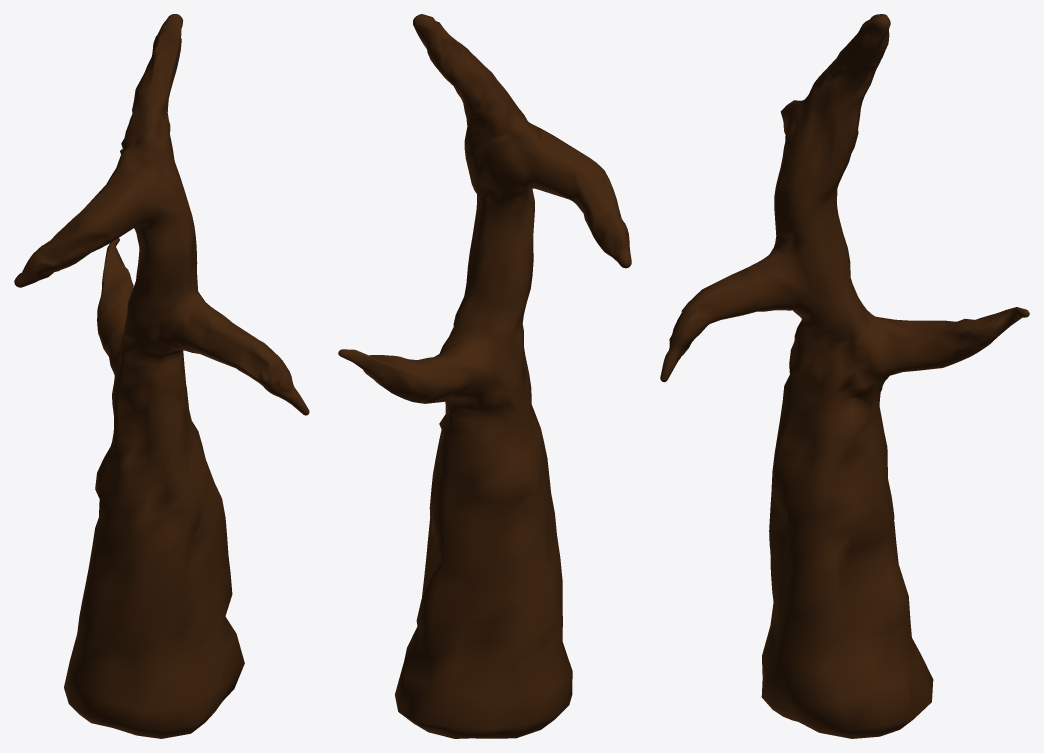
Rendered from G_LP_Tree_03a.fbx.
The picture shows the model from 3 angles, left to right: view 1: azimuth 30°, elevation 25°; view 2: azimuth 150°, elevation 25°; view 3: azimuth 270°, elevation 25°; orthographic projection. The views are drawn at different scales.
Visible parts, largest first — view 1: G_LP_Tree_03a; view 2: G_LP_Tree_03a; view 3: G_LP_Tree_03a.
Part boxes in pixels (<box>): G_LP_Tree_03a: <box>14,14,309,738</box>; G_LP_Tree_03a: <box>338,14,631,738</box>; G_LP_Tree_03a: <box>660,14,1029,738</box>.
Bounding box in the file's own units: 454 × 1359 × 631.
